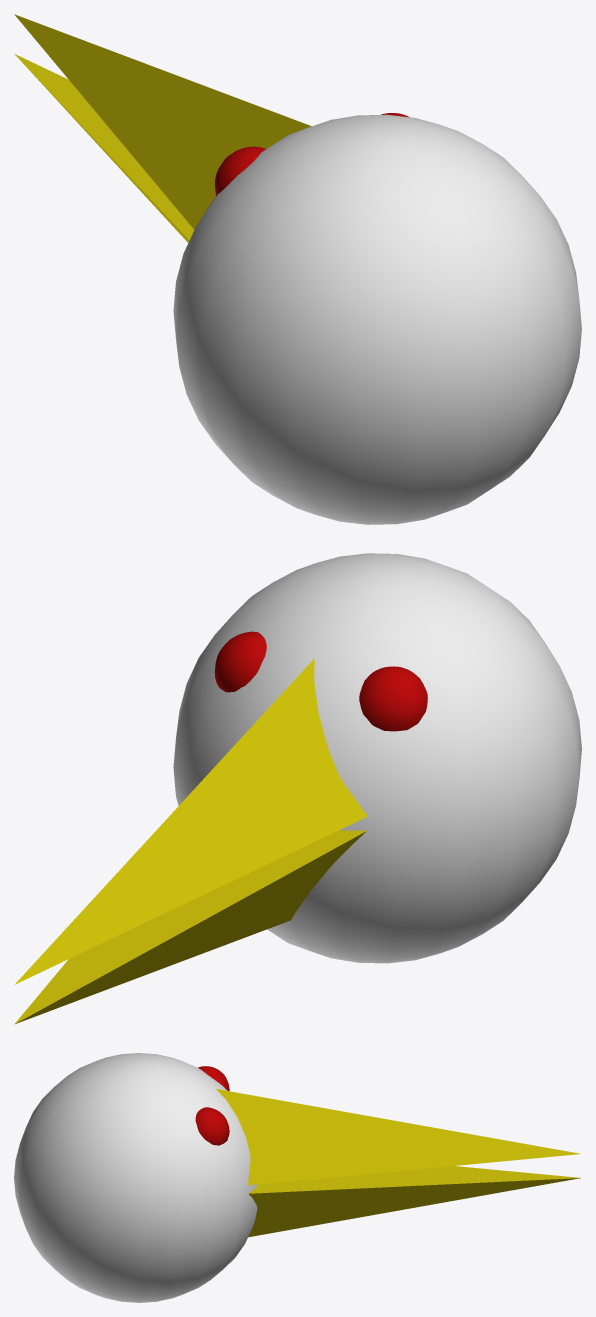
The model's file is bigBird.fbx.
3 views of the same model, one above another, from view 1: azimuth 30°, elevation 25°; view 2: azimuth 150°, elevation 25°; view 3: azimuth 270°, elevation 25° (orthographic). The views are drawn at different scales.
Visible parts, largest first — view 1: pPyramid3; view 2: pPyramid3; view 3: pPyramid3.
Part boxes in pixels (x1,y1,x2,y2): pPyramid3: [14, 14, 581, 524]; pPyramid3: [14, 553, 581, 1024]; pPyramid3: [14, 1053, 580, 1302].
Bounding box in the file's own units: 4.15 × 4.15 × 9.42.
